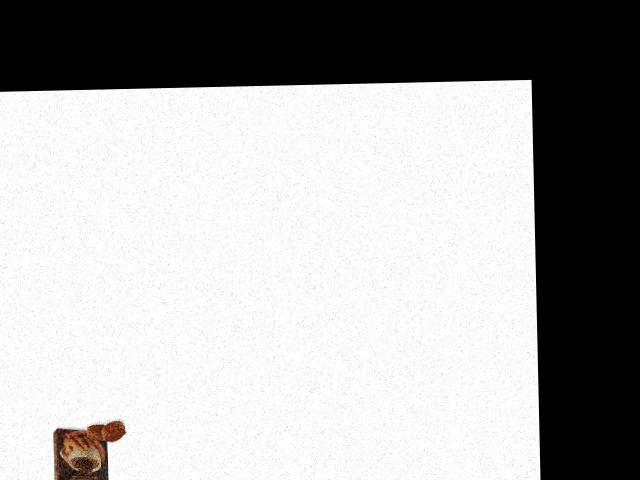chocolate: (49, 424, 117, 480)
